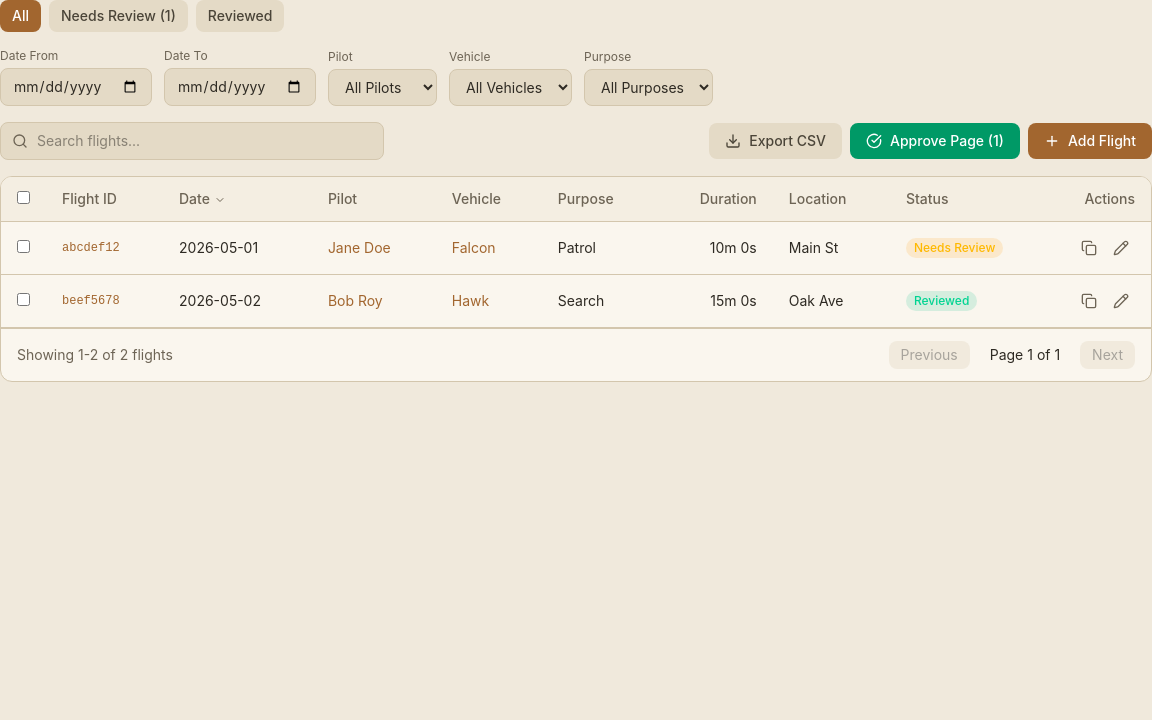
Scenario: FlightsPage › bulk purpose: the confirmation names what is being overwritten and how many rows change
Click the checkbox named "Select all flights on this page" at (24, 198), box [17,191,30,204]
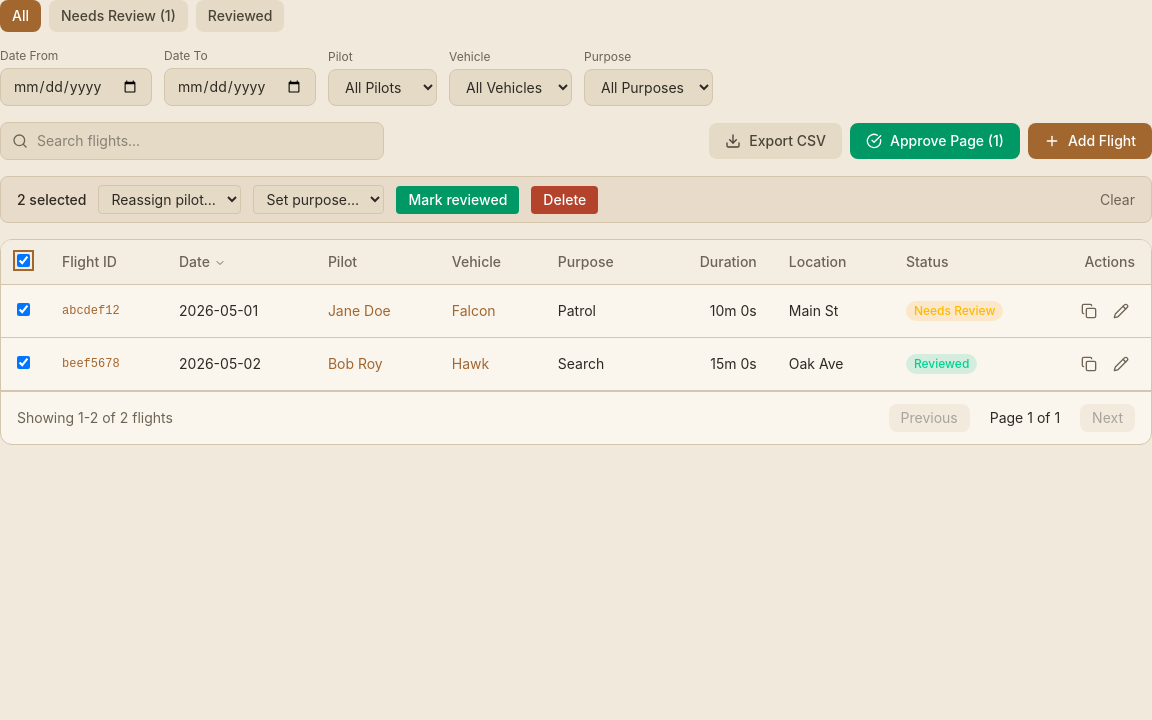
Check: the text "2 selected" is shown, box [17,190,86,210]
Select "Search" in the dropdown named "Set purpose for selected flights" at (319, 200), box [254,185,384,214]
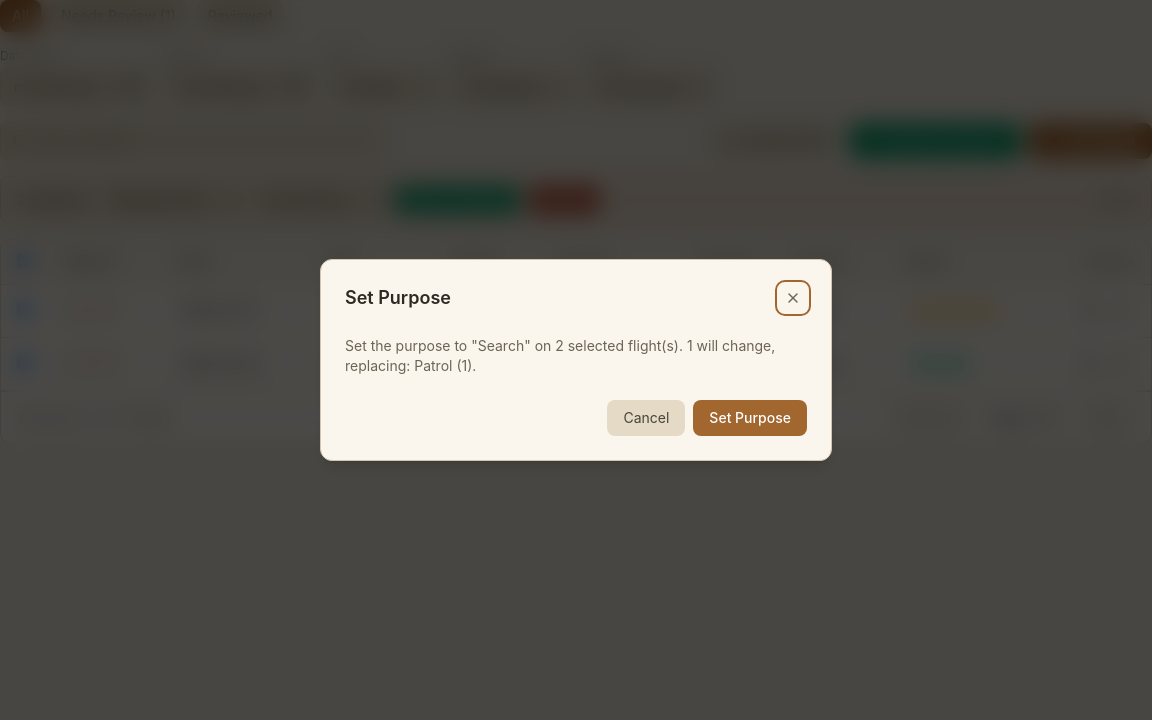
Check: the text "Set the purpose to \"Search\" on 2 selected flight(s). 1 will change, replacing: Patrol (1)." is shown, box [345,337,775,374]
